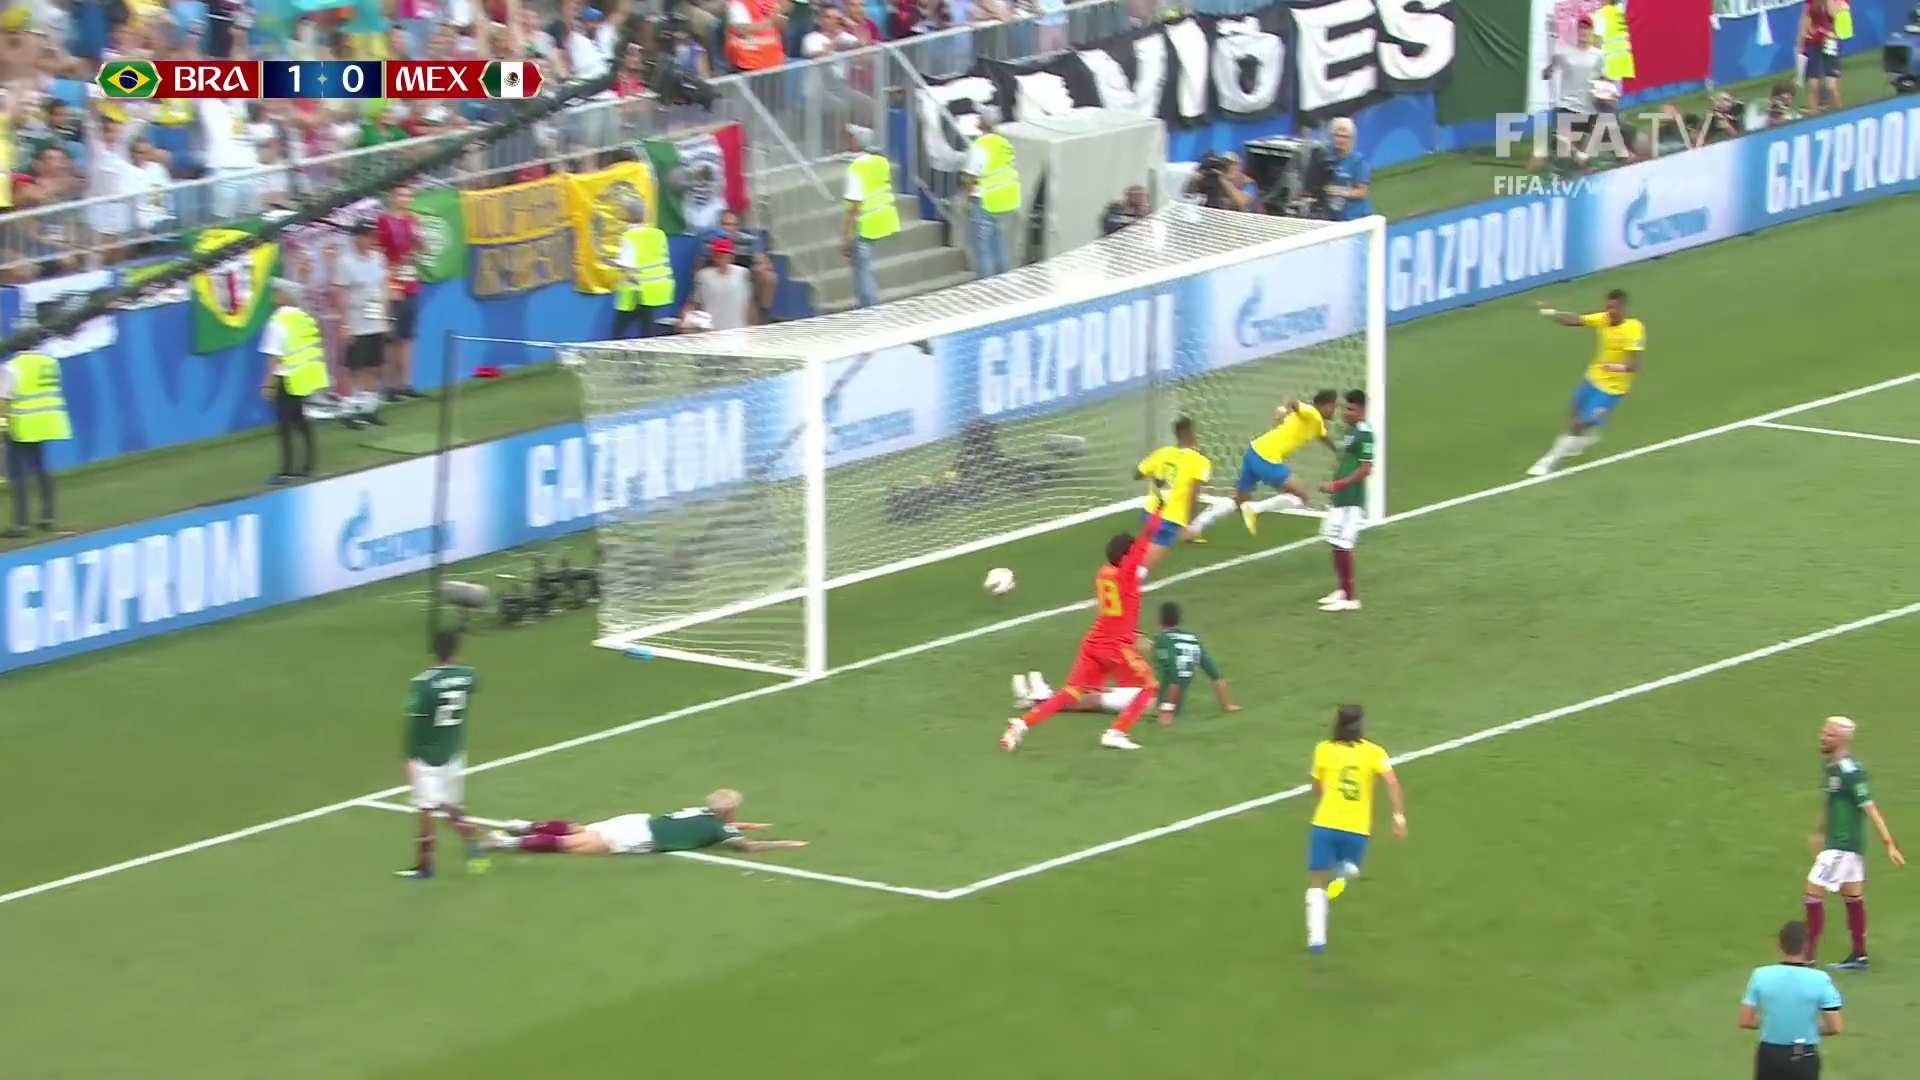ball: (987, 568, 1014, 593)
person: (1011, 529, 1155, 753), (1303, 703, 1406, 959), (1018, 599, 1237, 716), (1806, 719, 1895, 972), (400, 630, 489, 873), (492, 786, 804, 852), (1540, 296, 1640, 479), (1133, 418, 1225, 572), (1231, 382, 1325, 531), (1321, 391, 1370, 612)
